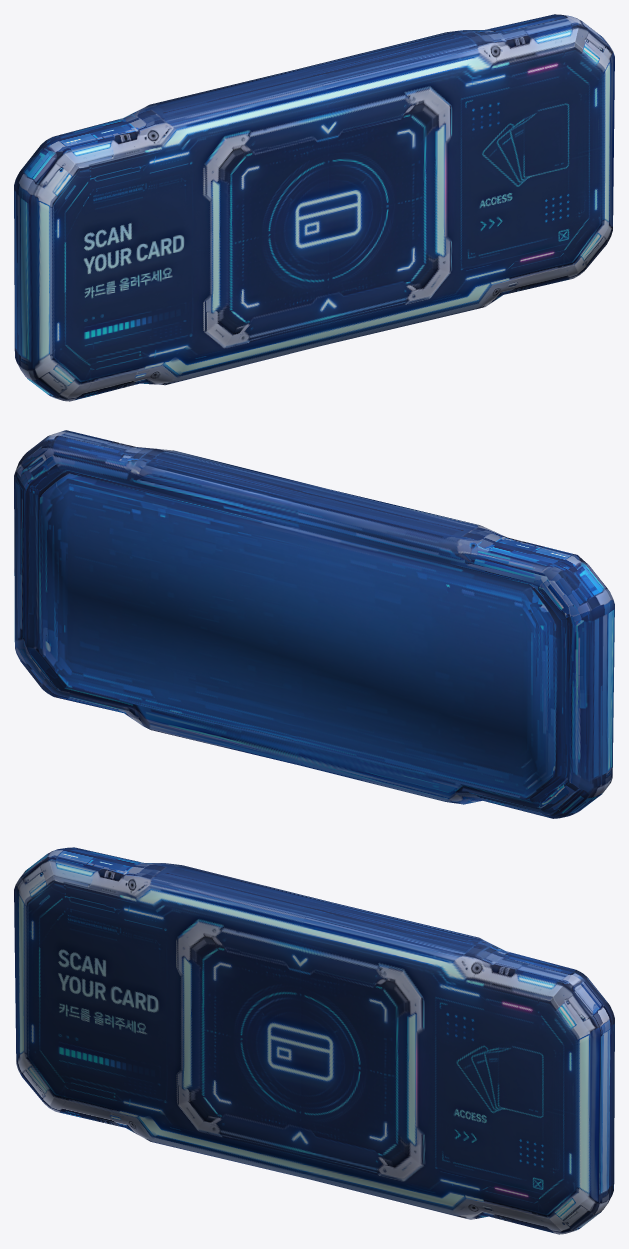
The model's file is futuristic+card+scanner+3d+model.fbx.
3 renders of one model, top to bottom at view 1: azimuth 30°, elevation 25°; view 2: azimuth 150°, elevation 25°; view 3: azimuth 330°, elevation 25°, orthographic.
Visible parts, largest first — view 1: tripo_node_3bebdc7b-81a6-4574-afe8-d359375117e7; view 2: tripo_node_3bebdc7b-81a6-4574-afe8-d359375117e7; view 3: tripo_node_3bebdc7b-81a6-4574-afe8-d359375117e7.
Boxes of the visible parts, x1=… form: tripo_node_3bebdc7b-81a6-4574-afe8-d359375117e7: x1=14, y1=14, x2=614, y2=401; tripo_node_3bebdc7b-81a6-4574-afe8-d359375117e7: x1=14, y1=430, x2=614, y2=818; tripo_node_3bebdc7b-81a6-4574-afe8-d359375117e7: x1=14, y1=847, x2=614, y2=1234.
Size of the model in its own units: 0.9995 by 0.4292 by 0.0942.
1 material, 1 textured.
